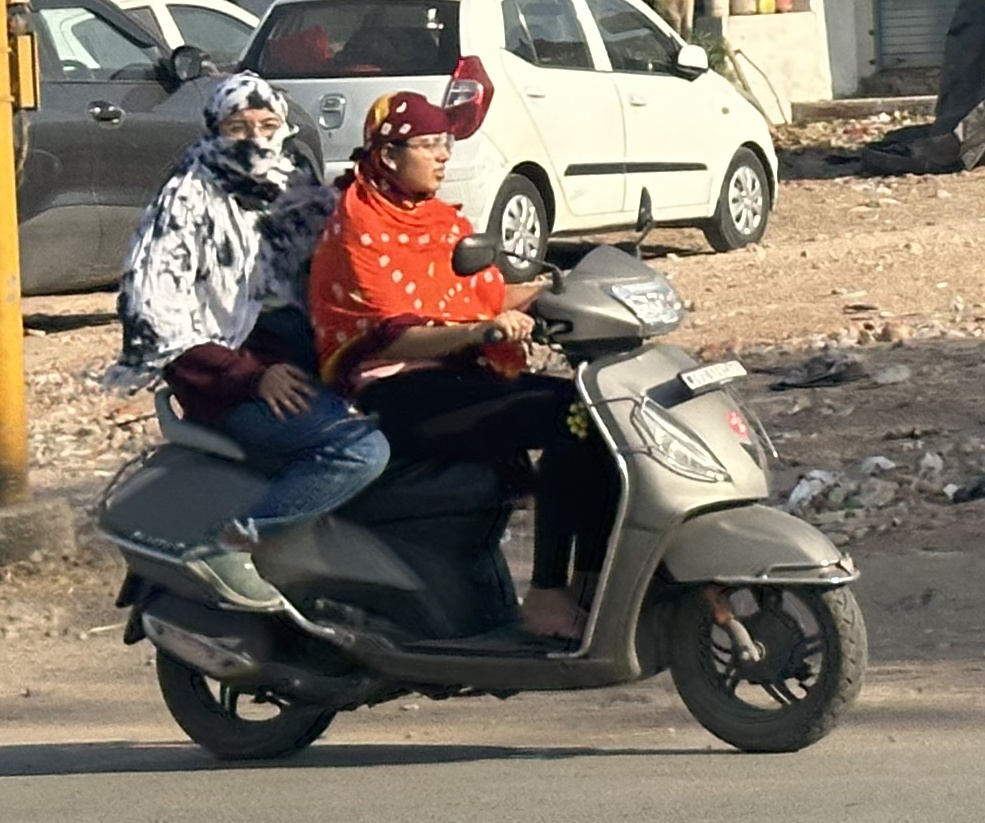BikeWithRider: (77, 62, 880, 775)
NoHelmet: (355, 84, 467, 204), (195, 63, 295, 178)
